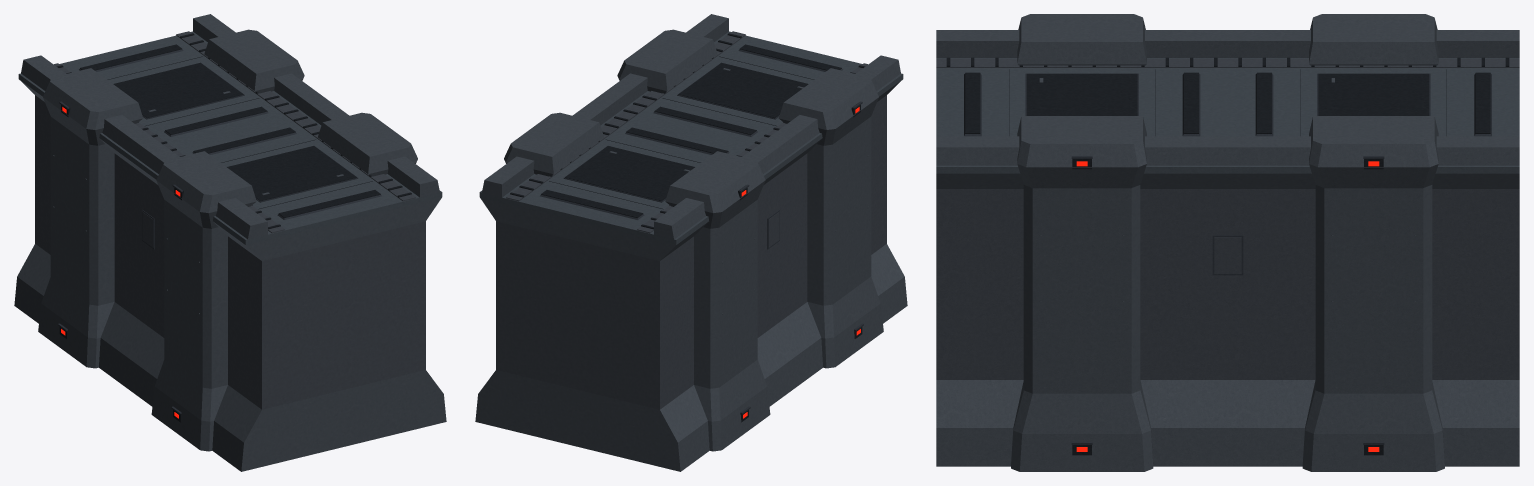
File: straight.glb
The picture shows the model from 3 angles, left to right: view 1: azimuth 30°, elevation 25°; view 2: azimuth 150°, elevation 25°; view 3: azimuth 270°, elevation 25°; orthographic projection. The views are drawn at different scales.
Parts seen in each view (by area): view 1: straight-lod0-roof0, straight-lod0-base0, straight-lod0-floor0; view 2: straight-lod0-roof0, straight-lod0-base0, straight-lod0-floor0; view 3: straight-lod0-roof0, straight-lod0-base0, straight-lod0-floor0.
Part boxes in pixels (box(x1,y1,x2,y2)): straight-lod0-roof0: box(18, 14, 442, 260); straight-lod0-base0: box(14, 198, 446, 471); straight-lod0-floor0: box(35, 95, 425, 363); straight-lod0-roof0: box(479, 14, 903, 260); straight-lod0-base0: box(475, 198, 907, 471); straight-lod0-floor0: box(496, 95, 886, 363); straight-lod0-roof0: box(936, 14, 1519, 202); straight-lod0-base0: box(936, 321, 1519, 471); straight-lod0-floor0: box(936, 189, 1519, 334).
Size of what is drawn, in the model's own units: 40.96 by 44 by 72.
6 materials, 6 textured.
